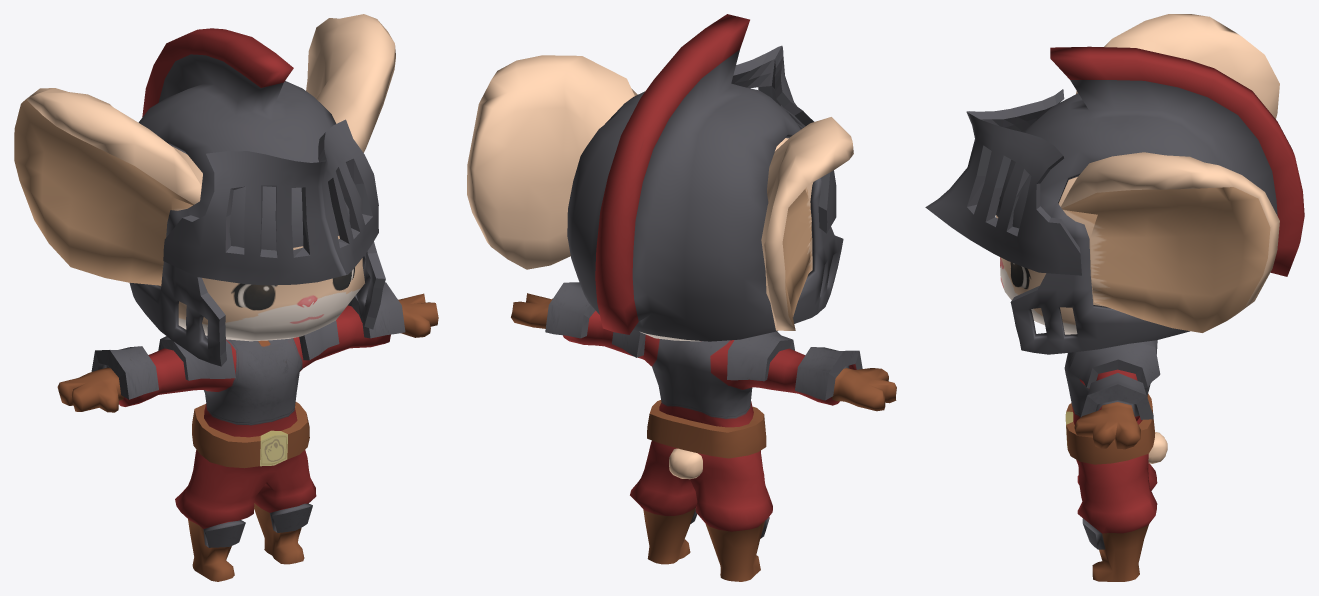
The model's file is Hamster_Knight_UModeler.fbx.
The picture shows the model from 3 angles, left to right: view 1: azimuth 30°, elevation 25°; view 2: azimuth 150°, elevation 25°; view 3: azimuth 270°, elevation 25°; orthographic projection. The views are drawn at different scales.
Parts seen in each view (by area): view 1: Hamster_Knight_UModeler; view 2: Hamster_Knight_UModeler; view 3: Hamster_Knight_UModeler.
Boxes of the visible parts, left/top/right/bottom form: Hamster_Knight_UModeler: left=14, top=14, right=438, bottom=581; Hamster_Knight_UModeler: left=467, top=14, right=896, bottom=581; Hamster_Knight_UModeler: left=925, top=14, right=1304, bottom=581.
Bounding box in the file's own units: 1720 × 2317 × 1573.
